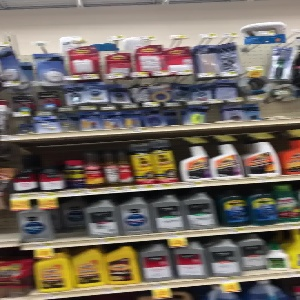void: (51, 195, 83, 237)
